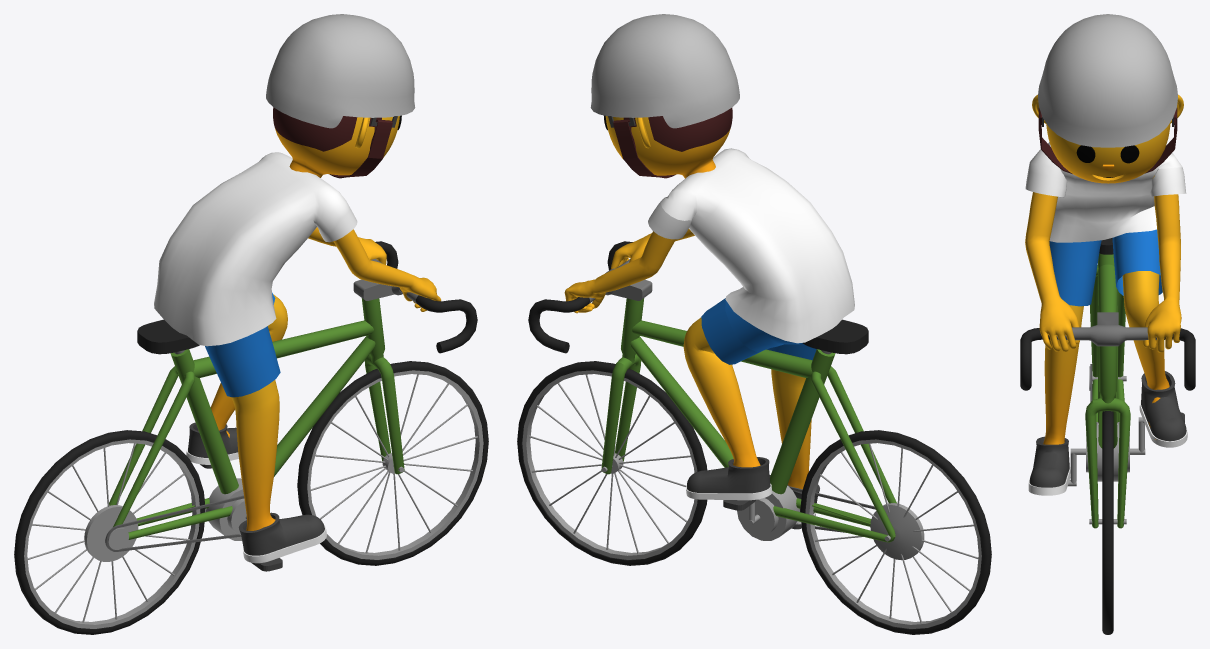
Rendered from person_biking.glb.
3 renders of one model, left to right at view 1: azimuth 30°, elevation 25°; view 2: azimuth 150°, elevation 25°; view 3: azimuth 270°, elevation 25°, orthographic. The views are drawn at different scales.
Visible parts, largest first — view 1: Circle.196, Circle.191, Cube.307, Roundcube.477, Sphere.450, Sphere.449, Circle.198; view 2: Circle.196, Circle.191, Cube.307, Roundcube.477, Sphere.449, Circle.198; view 3: Circle.191, Cube.307, Circle.196, Roundcube.477, Sphere.449, Sphere.450, Circle.198, Circle.192.
Boxes of the visible parts, x1,y1,x2,y2 form: Circle.196: (14, 241, 488, 634); Circle.191: (154, 152, 441, 530); Cube.307: (266, 14, 415, 128); Roundcube.477: (273, 107, 399, 177); Sphere.450: (238, 512, 326, 563); Sphere.449: (186, 422, 238, 464); Circle.198: (329, 119, 392, 178); Circle.196: (517, 241, 991, 634); Circle.191: (564, 148, 854, 489); Cube.307: (590, 14, 739, 128); Roundcube.477: (605, 107, 732, 178); Sphere.449: (686, 457, 772, 500); Circle.198: (613, 119, 675, 178); Circle.191: (1025, 142, 1186, 444); Cube.307: (1038, 14, 1177, 147); Circle.196: (1020, 238, 1195, 634); Roundcube.477: (1046, 123, 1170, 183); Sphere.449: (1139, 371, 1187, 447); Sphere.450: (1028, 436, 1070, 495); Circle.198: (1038, 108, 1177, 173); Circle.192: (1076, 145, 1139, 163).
Size of the model in its own units: 2.05 by 2.3 by 0.6372.
1 material, 1 textured.
